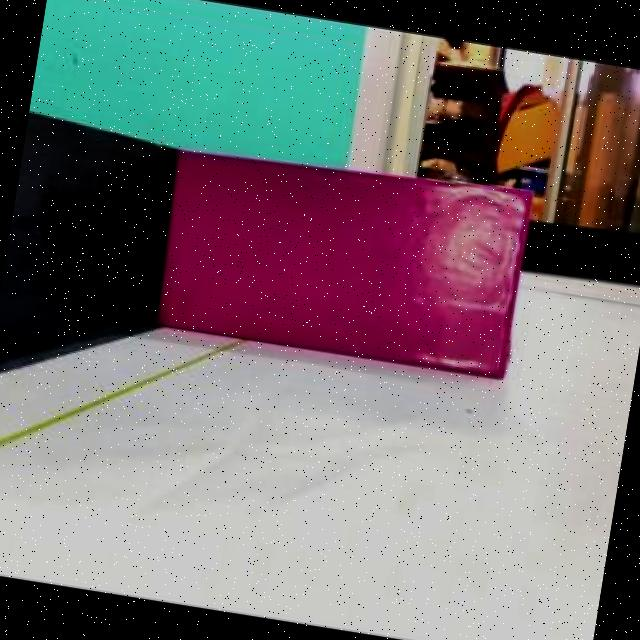xparking: (156, 144, 528, 382)
